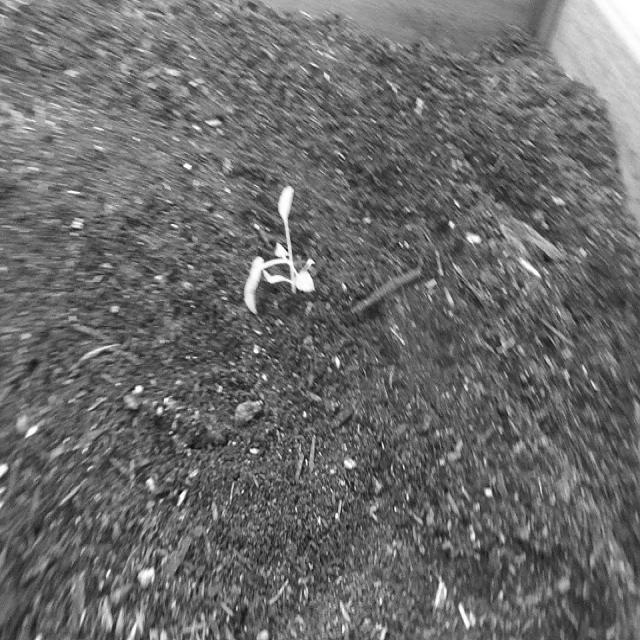Healthy: (237, 179, 322, 320)
